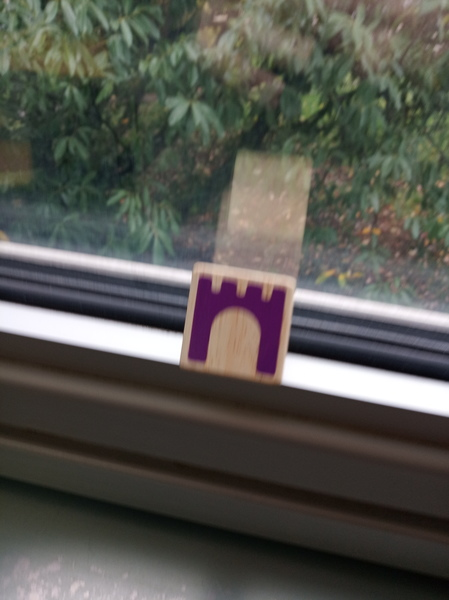violet: (190, 260, 288, 384)
